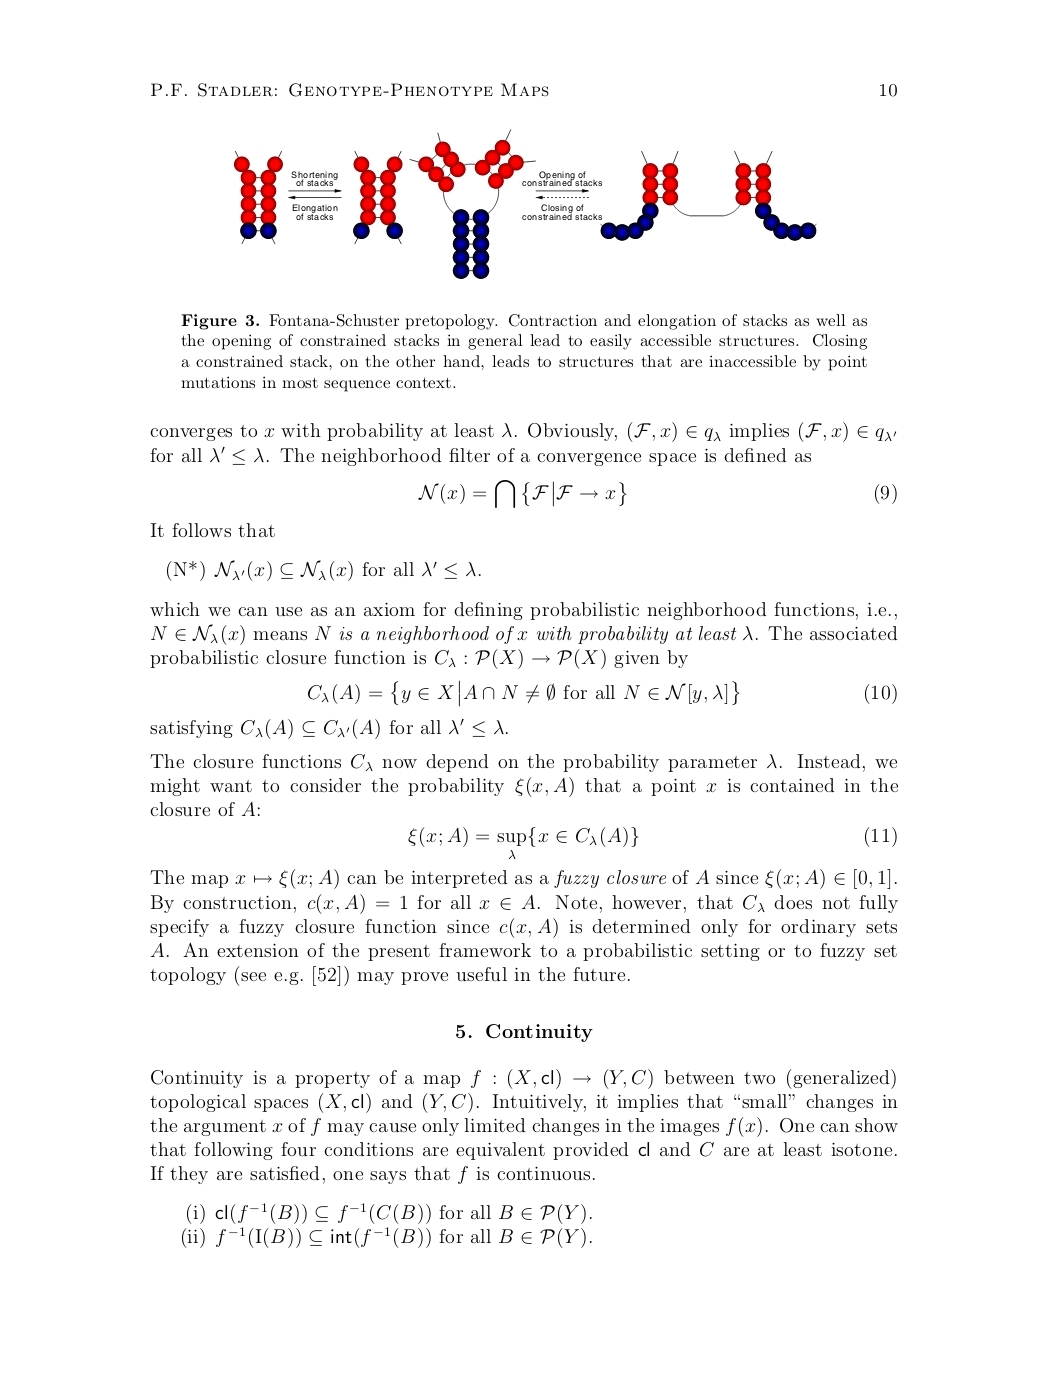figure: (234, 128, 816, 279)
formula: (308, 679, 896, 707), (408, 827, 896, 858), (418, 479, 896, 508)
